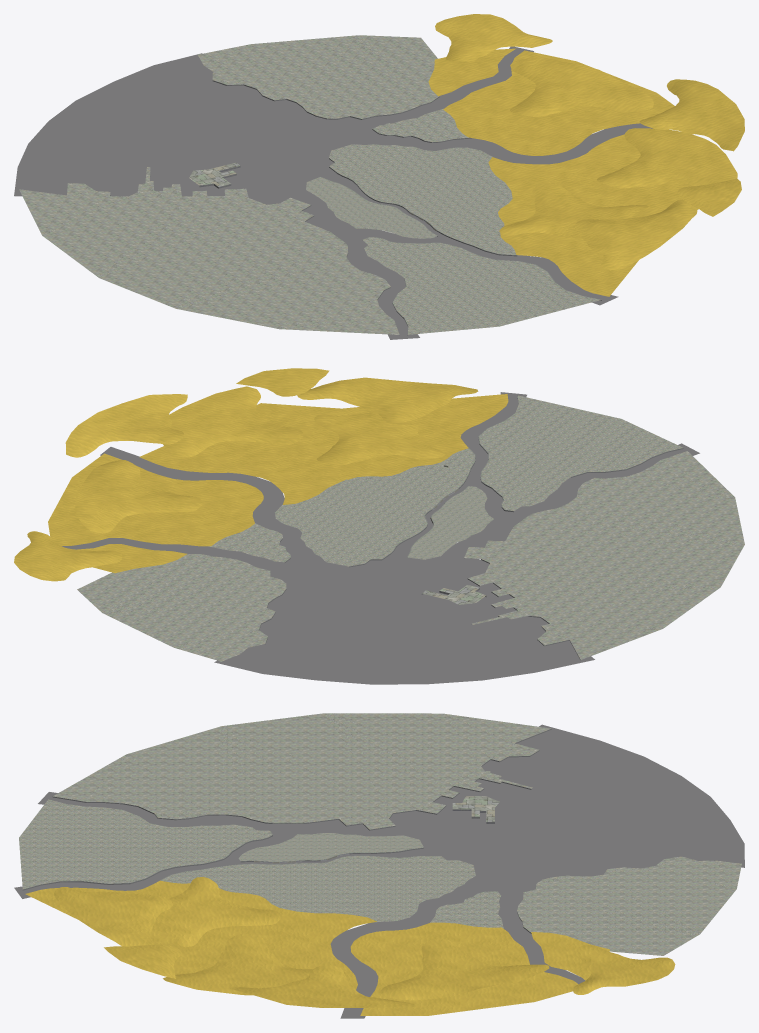
The model's file is mute city minimal 3.obj.
3 renders of one model, top to bottom at view 1: azimuth 30°, elevation 25°; view 2: azimuth 150°, elevation 25°; view 3: azimuth 270°, elevation 25°, orthographic. The views are drawn at different scales.
Parts seen in each view (by area): view 1: jimen_base_20_1__M_map, polySurface8362948__M_sand, ef_sea1__ef_sea04, kikai_wall_30_1__M_KikaiWALL; view 2: jimen_base_20_1__M_map, polySurface8362948__M_sand, ef_sea1__ef_sea04, kikai_wall_30_1__M_KikaiWALL; view 3: jimen_base_20_1__M_map, polySurface8362948__M_sand, ef_sea1__ef_sea04, kikai_wall_30_1__M_KikaiWALL.
Part boxes in pixels (<box>): jimen_base_20_1__M_map: <box>19,35,600,334</box>; polySurface8362948__M_sand: <box>428,14,744,296</box>; ef_sea1__ef_sea04: <box>14,46,652,339</box>; kikai_wall_30_1__M_KikaiWALL: <box>110,80,601,335</box>; jimen_base_20_1__M_map: <box>77,395,744,661</box>; polySurface8362948__M_sand: <box>14,368,508,581</box>; ef_sea1__ef_sea04: <box>62,392,699,684</box>; kikai_wall_30_1__M_KikaiWALL: <box>259,395,683,659</box>; jimen_base_20_1__M_map: <box>19,713,741,955</box>; polySurface8362948__M_sand: <box>25,877,675,1015</box>; ef_sea1__ef_sea04: <box>14,724,744,1018</box>; kikai_wall_30_1__M_KikaiWALL: <box>22,728,551,933</box>.
Bounding box in the file's own units: 3348 × 114 × 3265.
4 materials, 4 textured.
